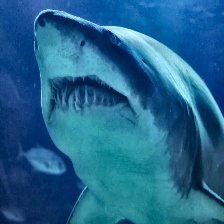shark: (20, 7, 223, 224)
